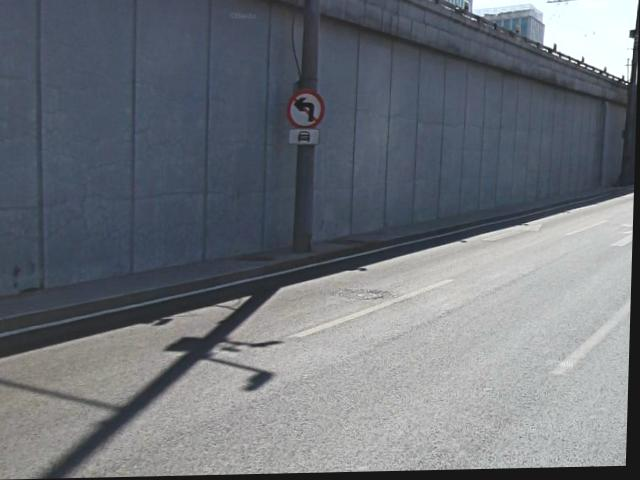not_turn_left: (285, 85, 325, 132)
